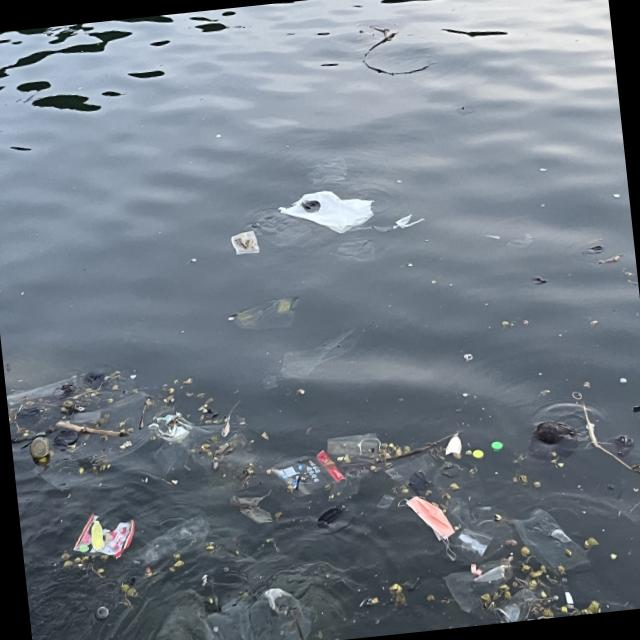foam: (445, 436, 463, 456)
plastic bag: (280, 188, 380, 235)
